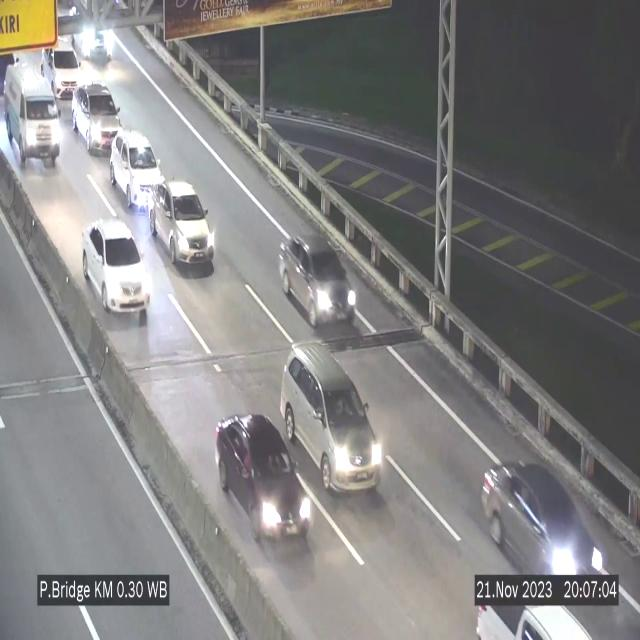Car: (472, 441, 610, 601), (281, 339, 385, 501), (214, 409, 314, 546), (280, 233, 360, 336), (464, 590, 608, 640), (5, 63, 64, 174), (83, 218, 151, 312), (150, 180, 214, 271), (111, 130, 167, 210), (71, 82, 127, 160), (68, 0, 121, 55), (41, 39, 91, 97)
